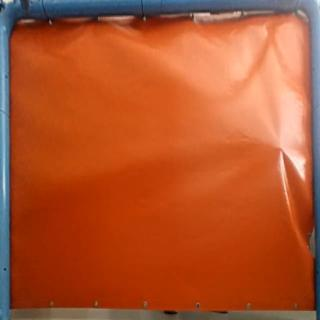Hit-hRxx: (272, 141, 290, 156)
